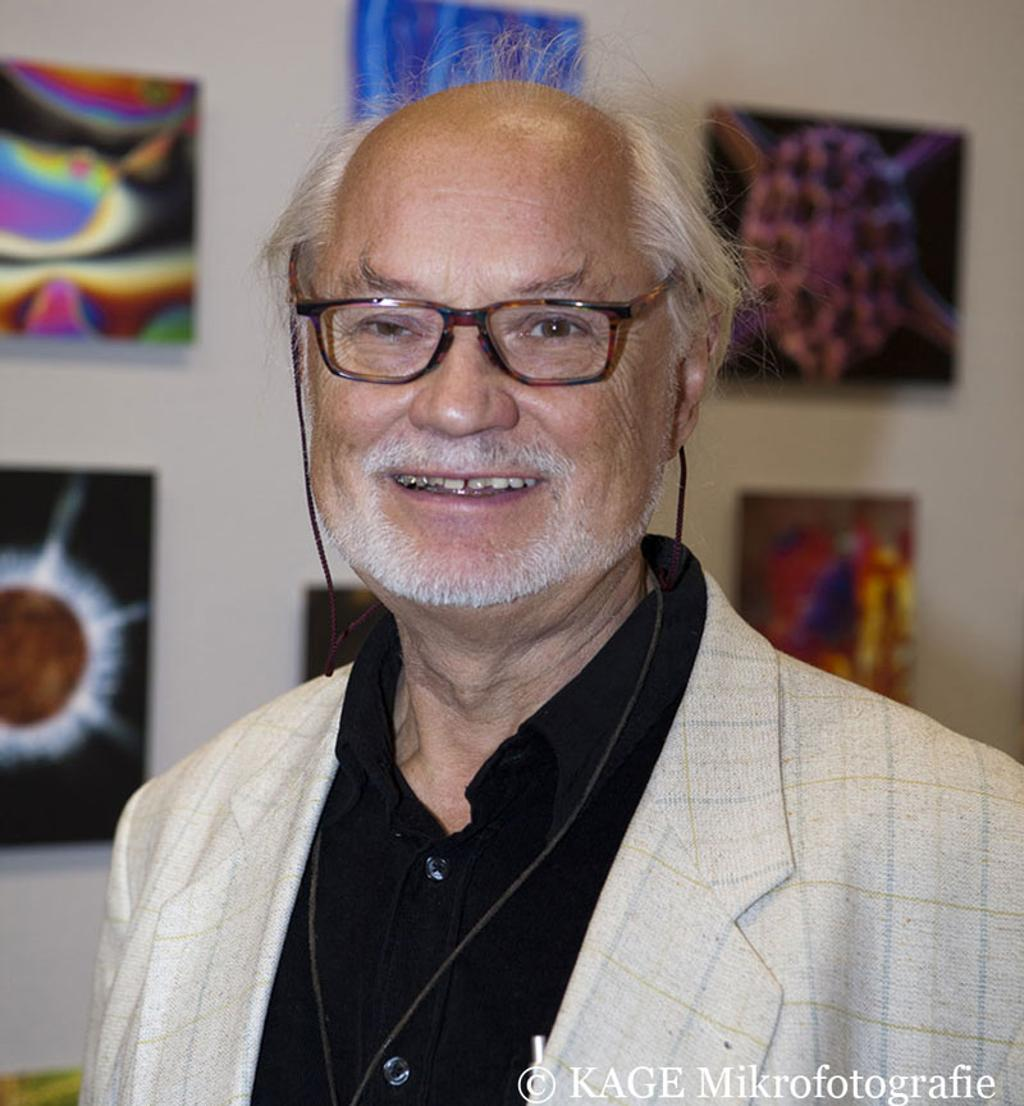face: (312, 120, 679, 602)
